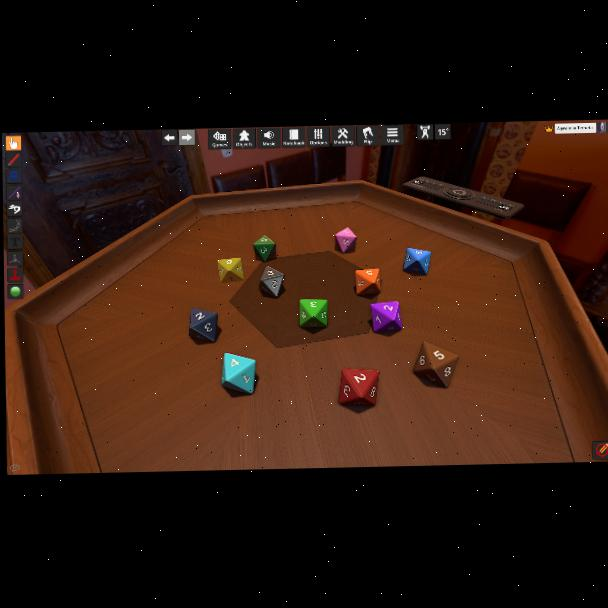d8: (413, 342, 456, 387), (337, 367, 377, 407), (223, 351, 258, 393), (189, 307, 217, 344), (371, 301, 401, 334), (259, 266, 286, 298), (299, 298, 326, 328), (403, 248, 429, 276), (252, 235, 275, 263), (218, 257, 242, 283), (355, 268, 379, 294), (334, 228, 355, 253)
